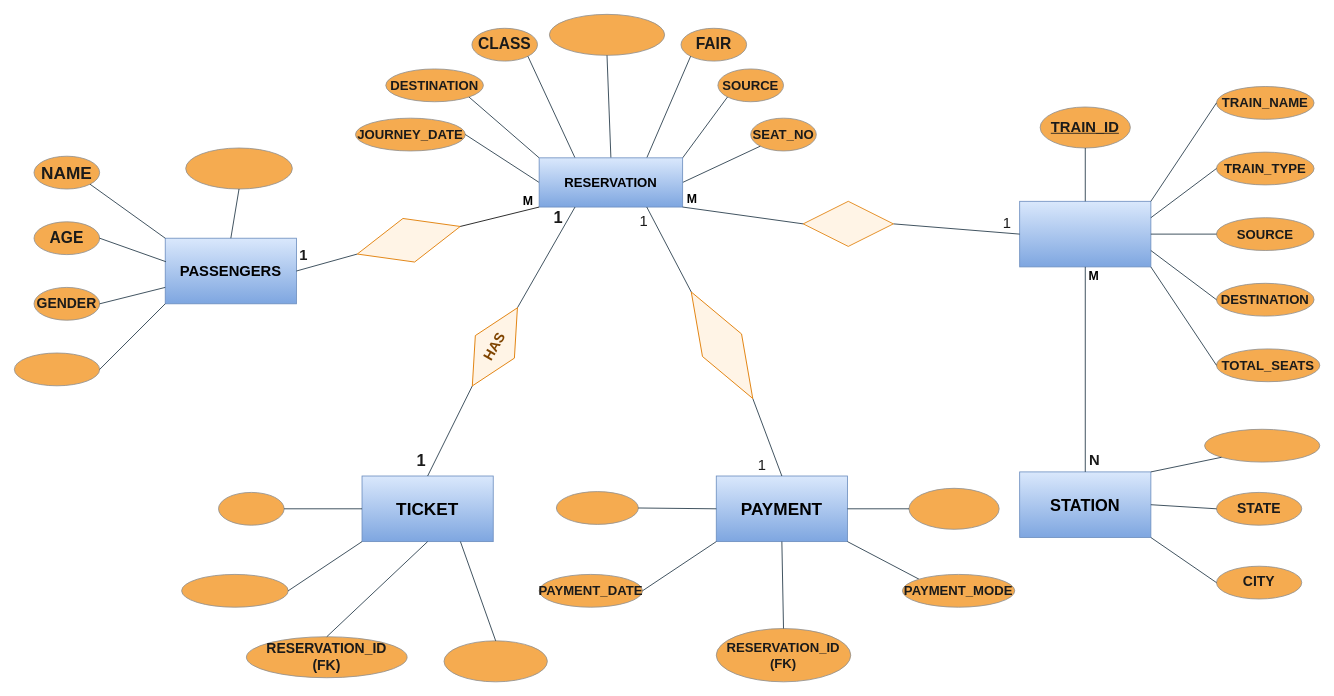
Some shapes in this 1334 by 696 pixel diagram are drawn without their labels. Each missing label, with the box of its shape:
AMOUNT: (556, 491, 638, 524)
BOOKING_DATE: (181, 574, 288, 607)
FOR: (802, 200, 893, 246)
GENERATES: (671, 280, 772, 410)
MAKE: (351, 204, 466, 276)
PASSENGER_ID: (185, 147, 292, 189)
PAYMENT_ID: (908, 487, 999, 529)
PHONE_NO: (14, 352, 100, 386)
PNR_ID: (218, 492, 284, 525)
RESERVATION_ID: (549, 14, 665, 55)
STATION_NAME: (1204, 428, 1320, 462)
TICKET_ID: (443, 640, 547, 682)
TRAIN: (1019, 200, 1151, 267)
